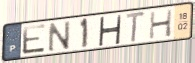1: (78, 17, 90, 50)
E: (21, 23, 47, 56)
H: (148, 8, 174, 41), (97, 14, 123, 47)
N: (47, 19, 71, 54)
T: (125, 10, 147, 44)
